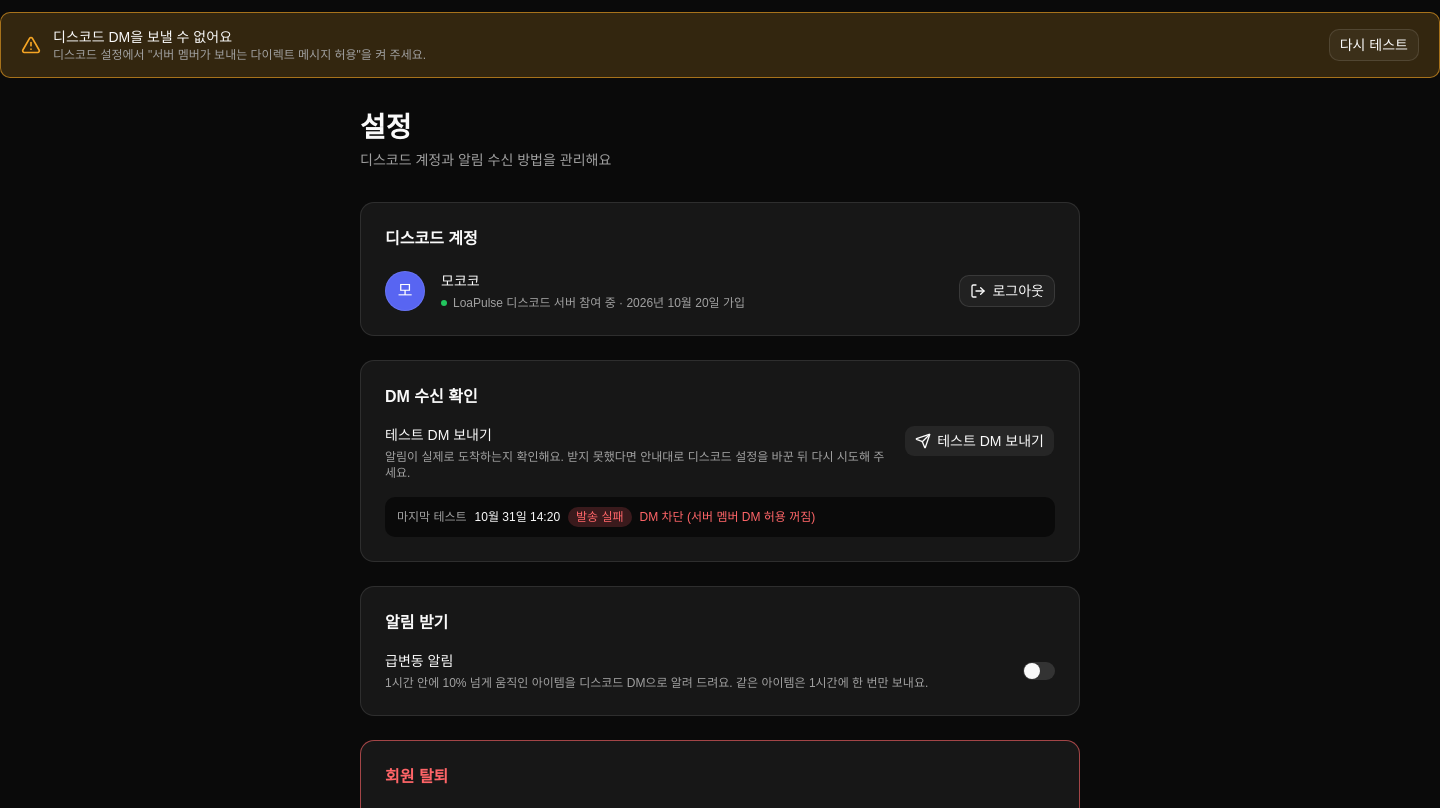
설정 화면 › DM이 막혀 있으면 배너로 알리고, 다시 테스트해 도착하면 배너를 내린다
Expected: the message shows "디스코드 DM을 보낼 수 없어요", left=53, top=29, right=232, bottom=45
Expected: the text "DM 차단 (서버 멤버 DM 허용 꺼짐)" is shown, left=640, top=509, right=815, bottom=525
Click the button "다시 테스트" at {"x": 1374, "y": 45}, box left=1329, top=29, right=1419, bottom=61
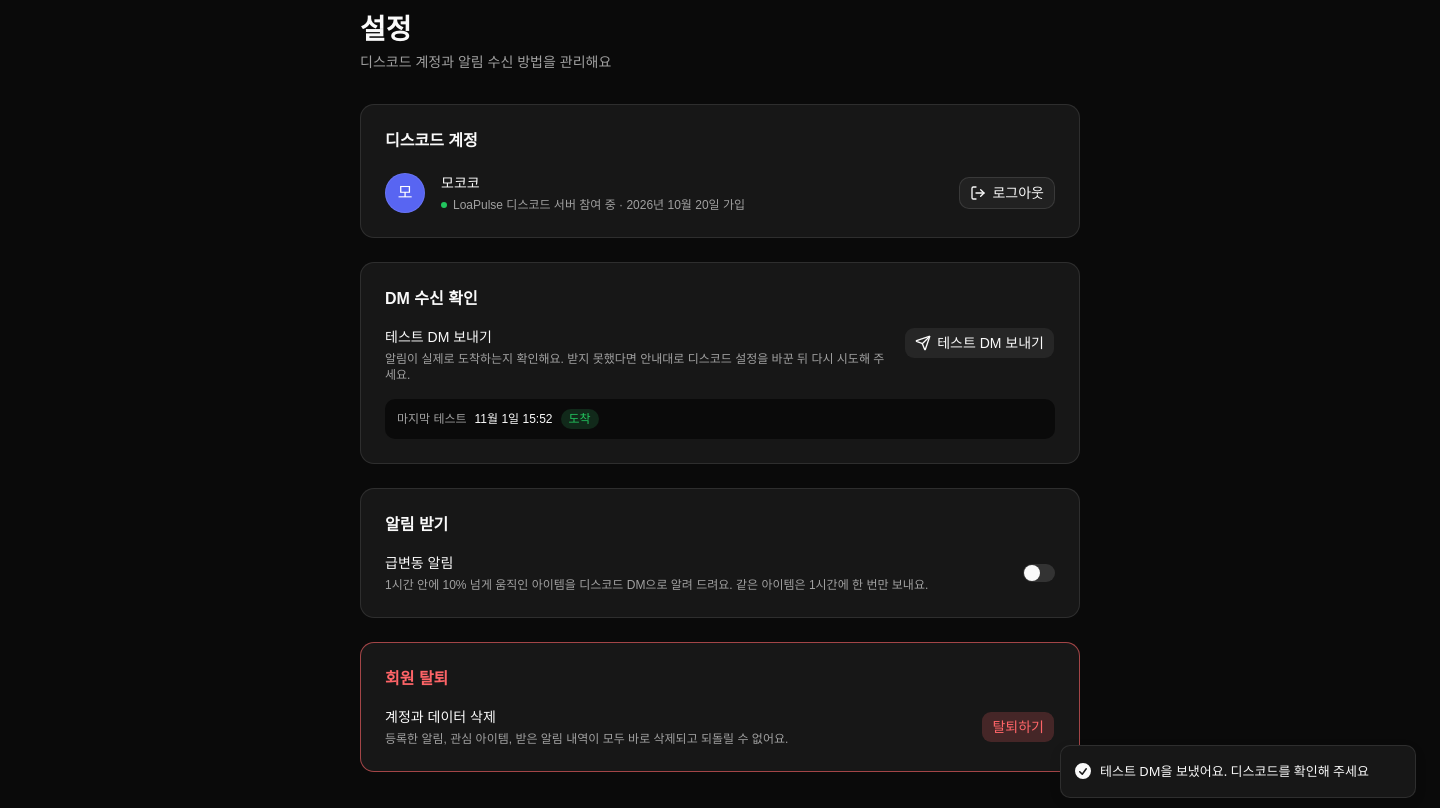
Result: the text "테스트 DM을 보냈어요. 디스코드를 확인해 주세요" is shown at left=1100, top=762, right=1369, bottom=781
Result: the message "디스코드 DM을 보낼 수 없어요 디스코드 설정에서 \"서버 멤버가 보내는 다이렉트 메시지 허용\"을 켜 주세요. 다시 테스트" is gone
Result: the text "도착" is shown at left=560, top=409, right=599, bottom=429
